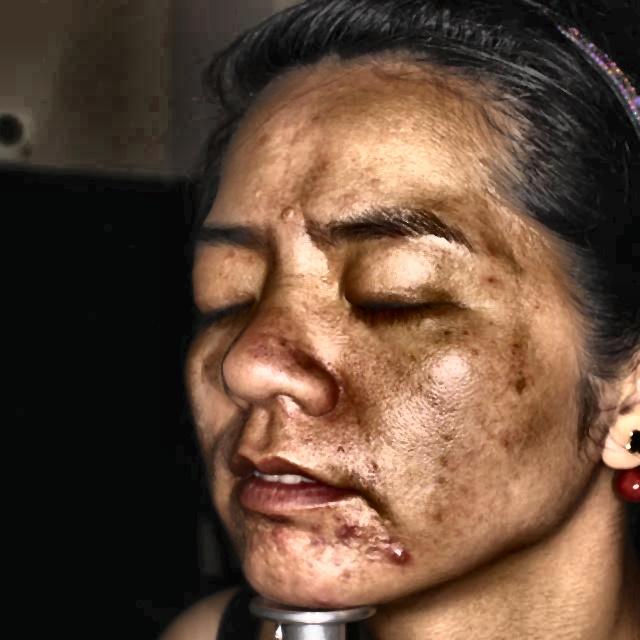pustule: (376, 546, 424, 578), (330, 514, 362, 548), (306, 522, 333, 549), (268, 519, 294, 543), (311, 590, 342, 609), (337, 565, 359, 580)
